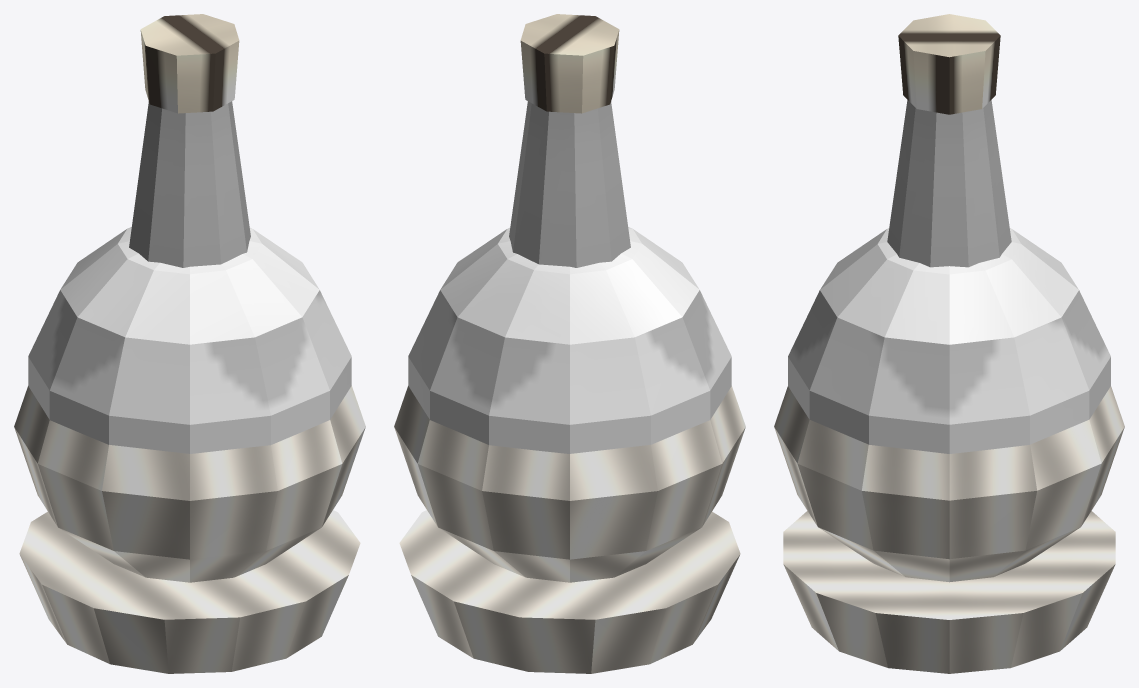
Rendered from vino_sfuso.obj.
3 renders of one model, left to right at view 1: azimuth 30°, elevation 25°; view 2: azimuth 150°, elevation 25°; view 3: azimuth 270°, elevation 25°, orthographic.
Visible parts, largest first — view 1: vino_sfuso; view 2: vino_sfuso; view 3: vino_sfuso.
Part boxes in pixels (x1,y1,x2,y2): vino_sfuso: (14,14,365,673); vino_sfuso: (394,14,745,673); vino_sfuso: (774,14,1124,673).
Size of the model in its own units: 0.144 by 0.262 by 0.144.
4 materials, 4 textured.
